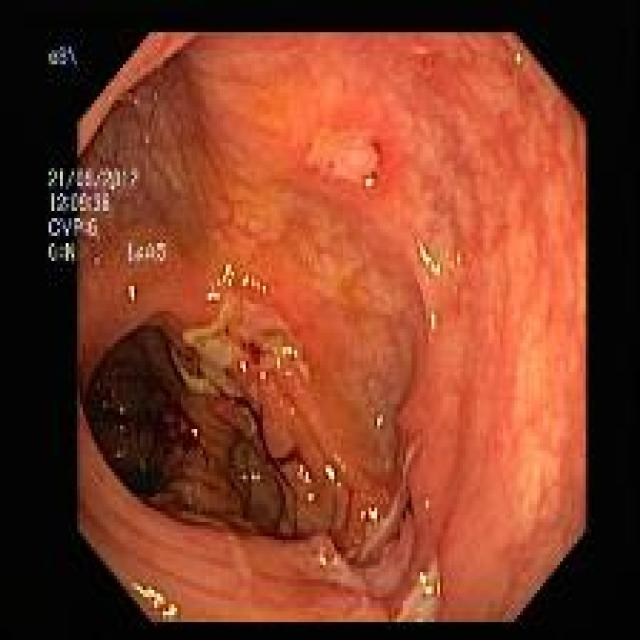ulcerative-colitis: (80, 33, 586, 620)
